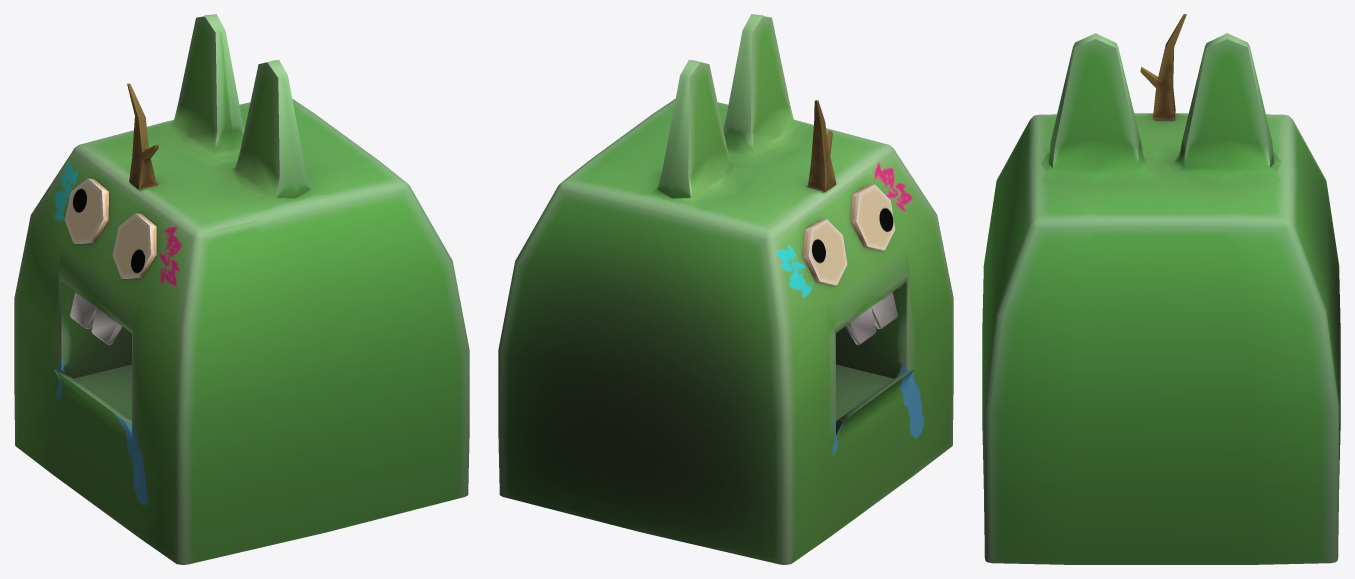
File: TapeBox03.fbx
3 views of the same model, side by side, from view 1: azimuth 30°, elevation 25°; view 2: azimuth 150°, elevation 25°; view 3: azimuth 270°, elevation 25° (orthographic). The views are drawn at different scales.
Visible parts, largest first — view 1: Cylinder.017; view 2: Cylinder.017; view 3: Cylinder.017.
Boxes of the visible parts, x1=… form: Cylinder.017: x1=14, y1=14, x2=469, y2=564; Cylinder.017: x1=498, y1=14, x2=953, y2=564; Cylinder.017: x1=982, y1=14, x2=1340, y2=564.
Size of the model in its own units: 30.25 by 41.56 by 29.7.
1 material, 1 textured.
